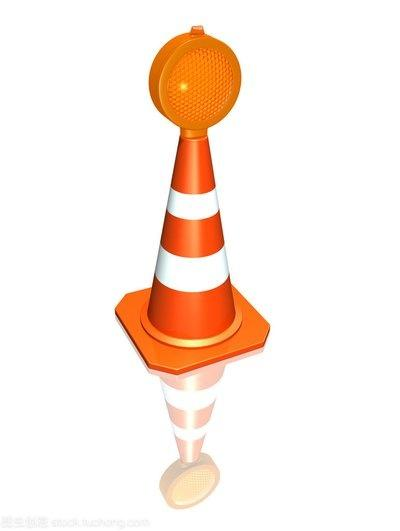cone_barrel: (130, 36, 255, 354), (143, 339, 226, 491)
